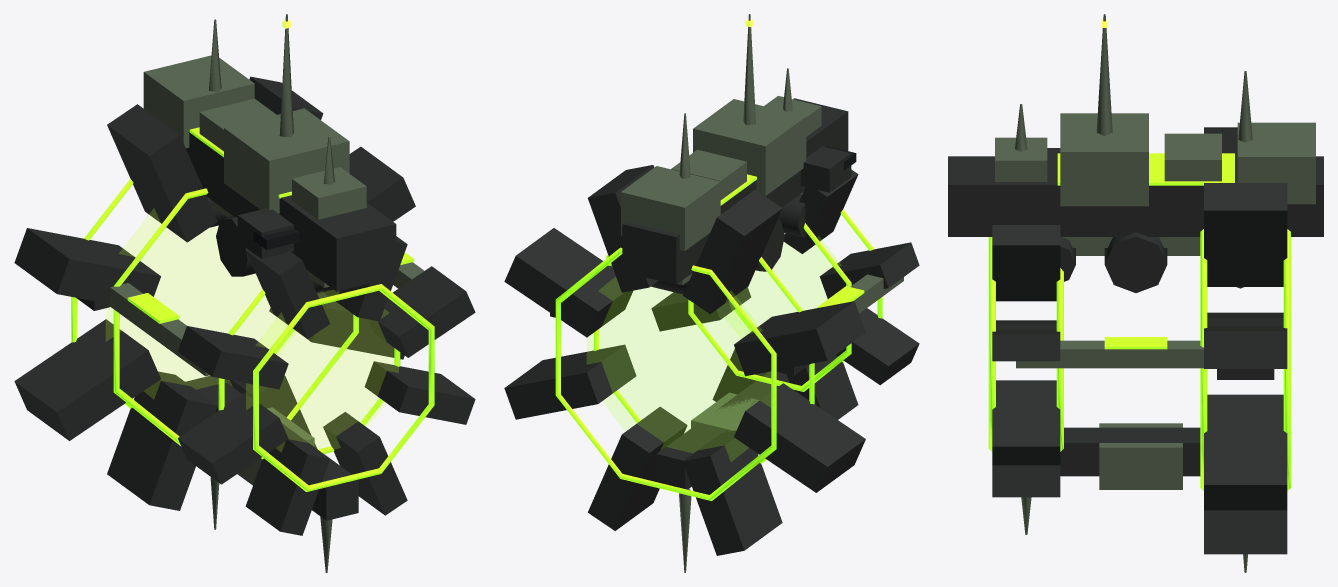
Rendered from Stargate.glb.
3 renders of one model, left to right at view 1: azimuth 30°, elevation 25°; view 2: azimuth 150°, elevation 25°; view 3: azimuth 270°, elevation 25°, orthographic. The views are drawn at different scales.
Visible parts, largest first — view 1: stargate_ring_fore, stargate_ring_aft, stargate, stargate_ring_aft_aperture, stargate_ring_fore_aperture, stargate_spine, stargate_ring_aft_rim (×2), stargate_ring_fore_rim (×2), stargate_keel, stargate_conduit, stargate_control, stargate_spire_main (+4 smaller); view 2: stargate_ring_fore, stargate_ring_fore_aperture, stargate, stargate_ring_aft, stargate_spine, stargate_ring_fore_rim (×2), stargate_ring_aft_aperture, stargate_keel, stargate_control, stargate_ring_aft_rim, stargate_keel_pod, stargate_conduit (+2 smaller); view 3: stargate_ring_fore, stargate, stargate_ring_aft, stargate_spine, stargate_conduit (×2), stargate_keel_pod, stargate_keel, stargate_ring_fore_rim (×2), stargate_ring_aft_rim (×2), stargate_spine_band, stargate_spire_main, stargate_spine_keel (+3 smaller).
Boxes of the visible parts, box(x1,y1,x2,y2) form: stargate_ring_fore: box(14, 76, 415, 510); stargate_ring_aft: box(178, 236, 475, 535); stargate: box(143, 55, 366, 292); stargate_ring_aft_aperture: box(246, 290, 398, 451); stargate_ring_fore_aperture: box(106, 209, 295, 398); stargate_spine: box(186, 131, 396, 291); stargate_ring_aft_rim (×2): box(218, 284, 434, 491); stargate_ring_fore_rim (×2): box(71, 179, 358, 446); stargate_keel: box(185, 375, 358, 520); stargate_conduit: box(106, 283, 209, 376); stargate_control: box(237, 208, 293, 258); stargate_spire_main: box(279, 14, 293, 137); stargate_ring_fore: box(504, 165, 865, 555); stargate_ring_fore_aperture: box(587, 277, 770, 461); stargate: box(621, 96, 821, 294); stargate_ring_aft: box(651, 169, 919, 419); stargate_spine: box(622, 98, 848, 284); stargate_ring_fore_rim (×2): box(555, 247, 814, 500); stargate_ring_aft_aperture: box(725, 236, 841, 337); stargate_keel: box(656, 371, 789, 489); stargate_control: box(800, 146, 851, 192); stargate_ring_aft_rim: box(688, 223, 851, 391); stargate_keel_pod: box(691, 392, 759, 454); stargate_conduit: box(850, 274, 903, 313); stargate_ring_fore: box(1204, 127, 1287, 554); stargate: box(995, 113, 1315, 292); stargate_ring_aft: box(992, 225, 1060, 497); stargate_spine: box(948, 156, 1323, 236); stargate_conduit (×2): box(1016, 248, 1203, 368); stargate_keel_pod: box(1099, 423, 1182, 489); stargate_keel: box(1060, 427, 1200, 476); stargate_ring_fore_rim (×2): box(1200, 229, 1290, 490); stargate_ring_aft_rim (×2): box(988, 237, 1063, 451); stargate_spine_band: box(1057, 153, 1234, 185); stargate_spire_main: box(1096, 14, 1112, 135); stargate_spine_keel: box(1062, 237, 1200, 247).
Bounding box in the file's own units: 263 × 397 × 243.
